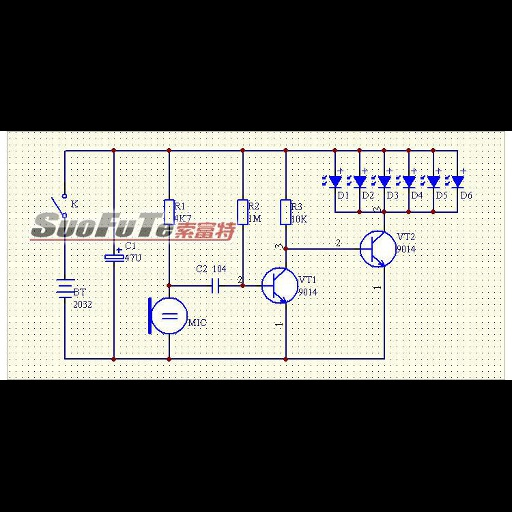battery: (51, 274, 75, 300)
capacitor: (206, 275, 224, 296)
firstled: (418, 173, 442, 191), (369, 172, 391, 191), (345, 172, 366, 191), (395, 173, 417, 191), (317, 174, 343, 189), (444, 173, 468, 189)
firstresistance: (231, 197, 249, 228), (274, 197, 292, 228), (158, 196, 176, 226)
npn: (367, 233, 389, 265), (269, 269, 289, 304)
secondpolarcapacitor: (99, 246, 125, 266)
